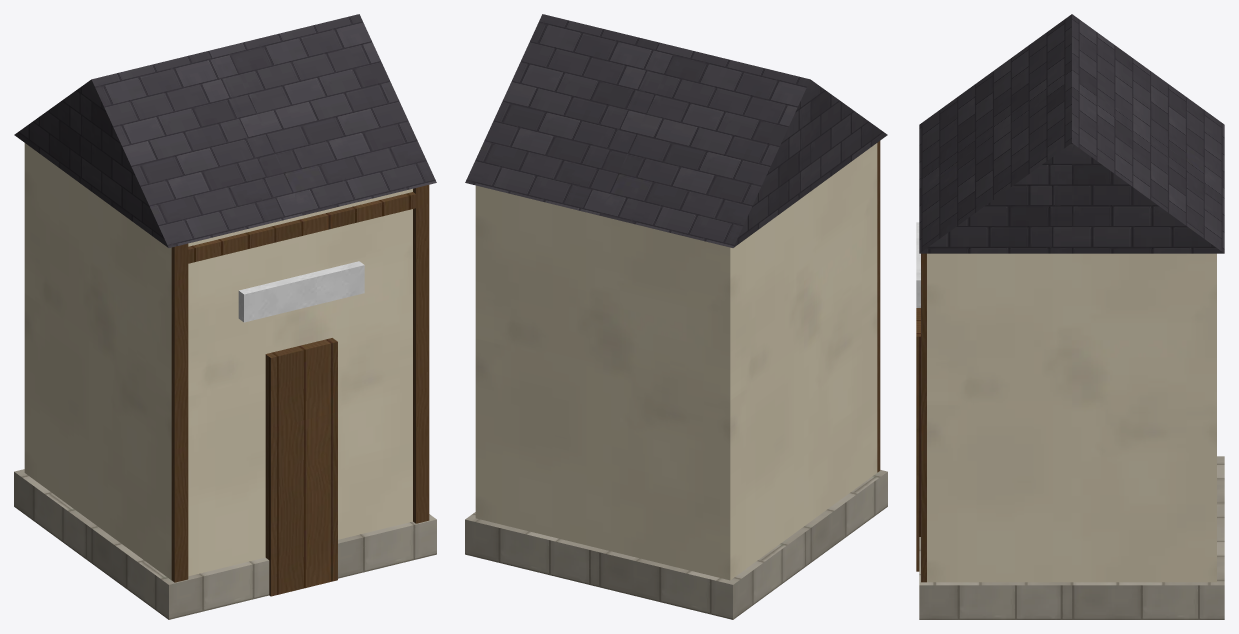
File: category.other.t1.glb
The picture shows the model from 3 angles, left to right: view 1: azimuth 30°, elevation 25°; view 2: azimuth 150°, elevation 25°; view 3: azimuth 270°, elevation 25°; orthographic projection.
Visible parts, largest first — view 1: building.category.other.t1; view 2: building.category.other.t1; view 3: building.category.other.t1.
Part boxes in pixels (x1,y1,x2,y2): building.category.other.t1: (14, 14, 436, 619); building.category.other.t1: (465, 14, 887, 619); building.category.other.t1: (916, 14, 1224, 619).
Size of the model in its own units: 2 by 3.45 by 2.02.
Materials: 5 (5 with a texture image).
